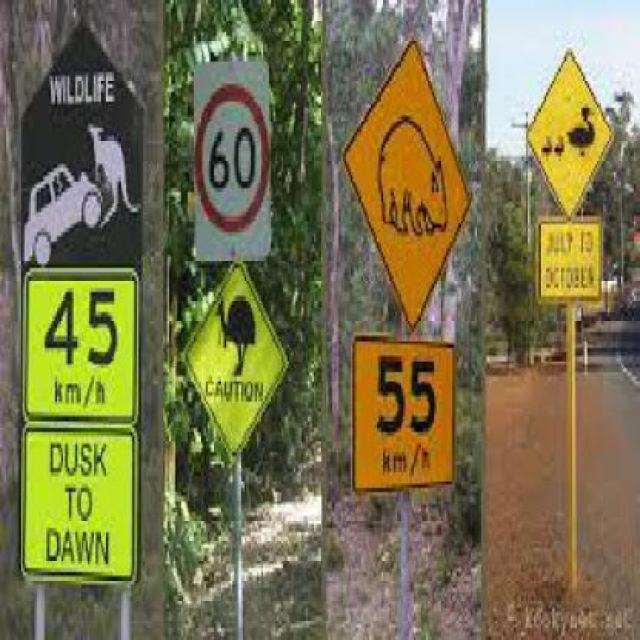traffic_sign: (193, 76, 278, 244)
